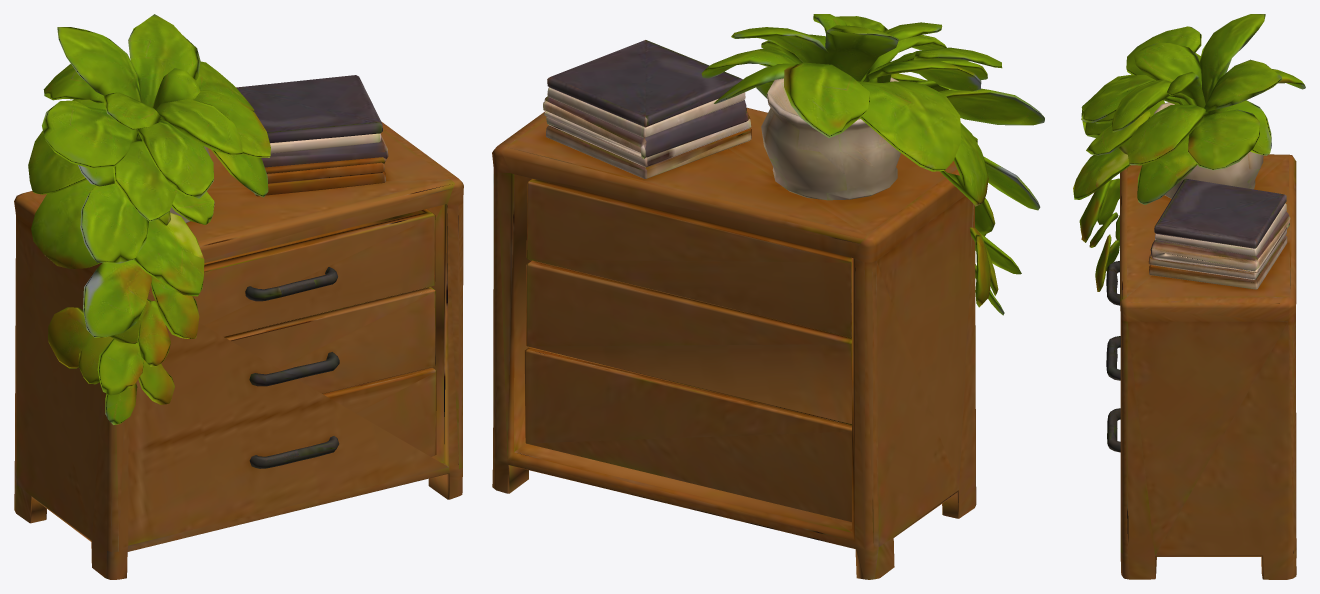
File: dresser.reed.glb
3 renders of one model, left to right at view 1: azimuth 30°, elevation 25°; view 2: azimuth 150°, elevation 25°; view 3: azimuth 270°, elevation 25°, orthographic. The views are drawn at different scales.
Visible parts, largest first — view 1: geometry_0; view 2: geometry_0; view 3: geometry_0.
Boxes of the visible parts, bbox=[...] form: geometry_0: bbox=[14, 14, 463, 579]; geometry_0: bbox=[492, 14, 1044, 579]; geometry_0: bbox=[1073, 14, 1305, 579].
Size of the model in its own units: 0.8512 by 1 by 0.4949.
1 material, 1 textured.
